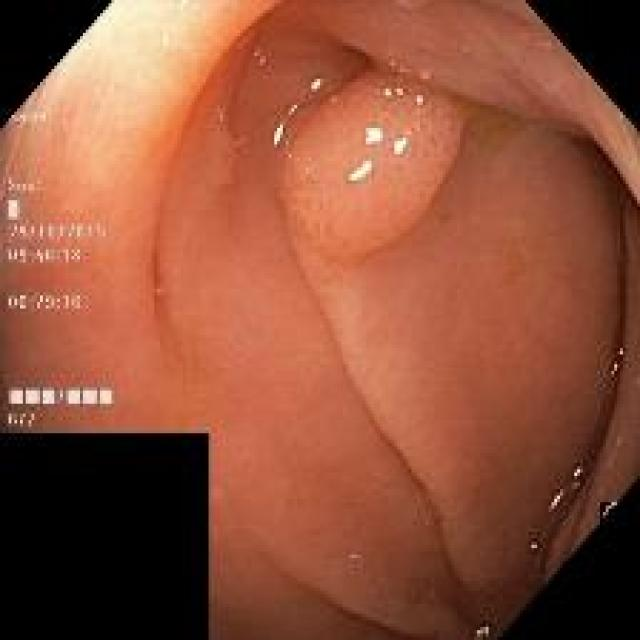Polyps: (280, 72, 468, 261)
